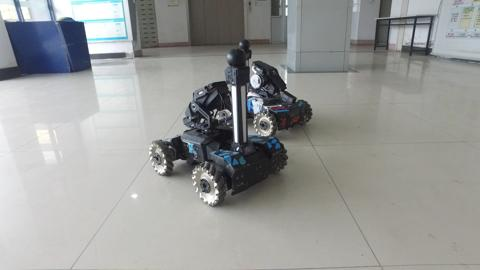chariot: (144, 40, 294, 216), (232, 39, 313, 141)
